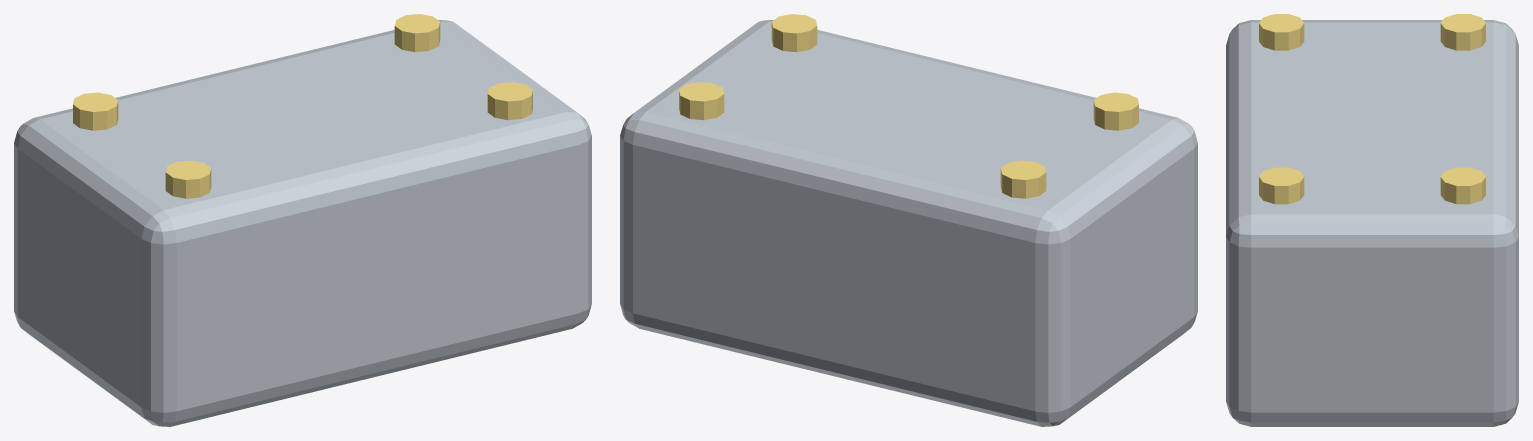
File: brick_armored.glb
3 renders of one model, left to right at view 1: azimuth 30°, elevation 25°; view 2: azimuth 150°, elevation 25°; view 3: azimuth 270°, elevation 25°, orthographic. The views are drawn at different scales.
Parts seen in each view (by area): view 1: Cube, Cylinder, Cylinder.003, Cylinder.001, Cylinder.002; view 2: Cube, Cylinder.001, Cylinder.002, Cylinder, Cylinder.003; view 3: Cube, Cylinder.002, Cylinder.003, Cylinder, Cylinder.001.
Part boxes in pixels (box(x1,y1,x2,y2)): Cube: box(14, 20, 591, 426); Cylinder: box(165, 160, 211, 198); Cylinder.003: box(394, 14, 440, 52); Cylinder.001: box(73, 92, 118, 130); Cylinder.002: box(487, 82, 532, 120); Cube: box(620, 20, 1197, 426); Cylinder.001: box(1000, 160, 1046, 198); Cylinder.002: box(771, 14, 817, 52); Cylinder: box(1093, 92, 1138, 130); Cylinder.003: box(679, 82, 724, 120); Cube: box(1226, 20, 1518, 426); Cylinder.002: box(1259, 167, 1304, 204); Cylinder.003: box(1440, 167, 1485, 204); Cylinder: box(1259, 14, 1304, 50); Cylinder.001: box(1440, 14, 1485, 50).
Size of the model in its own units: 1 by 0.5 by 0.58.
